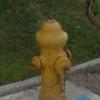Hydrant: (23, 14, 72, 100)
